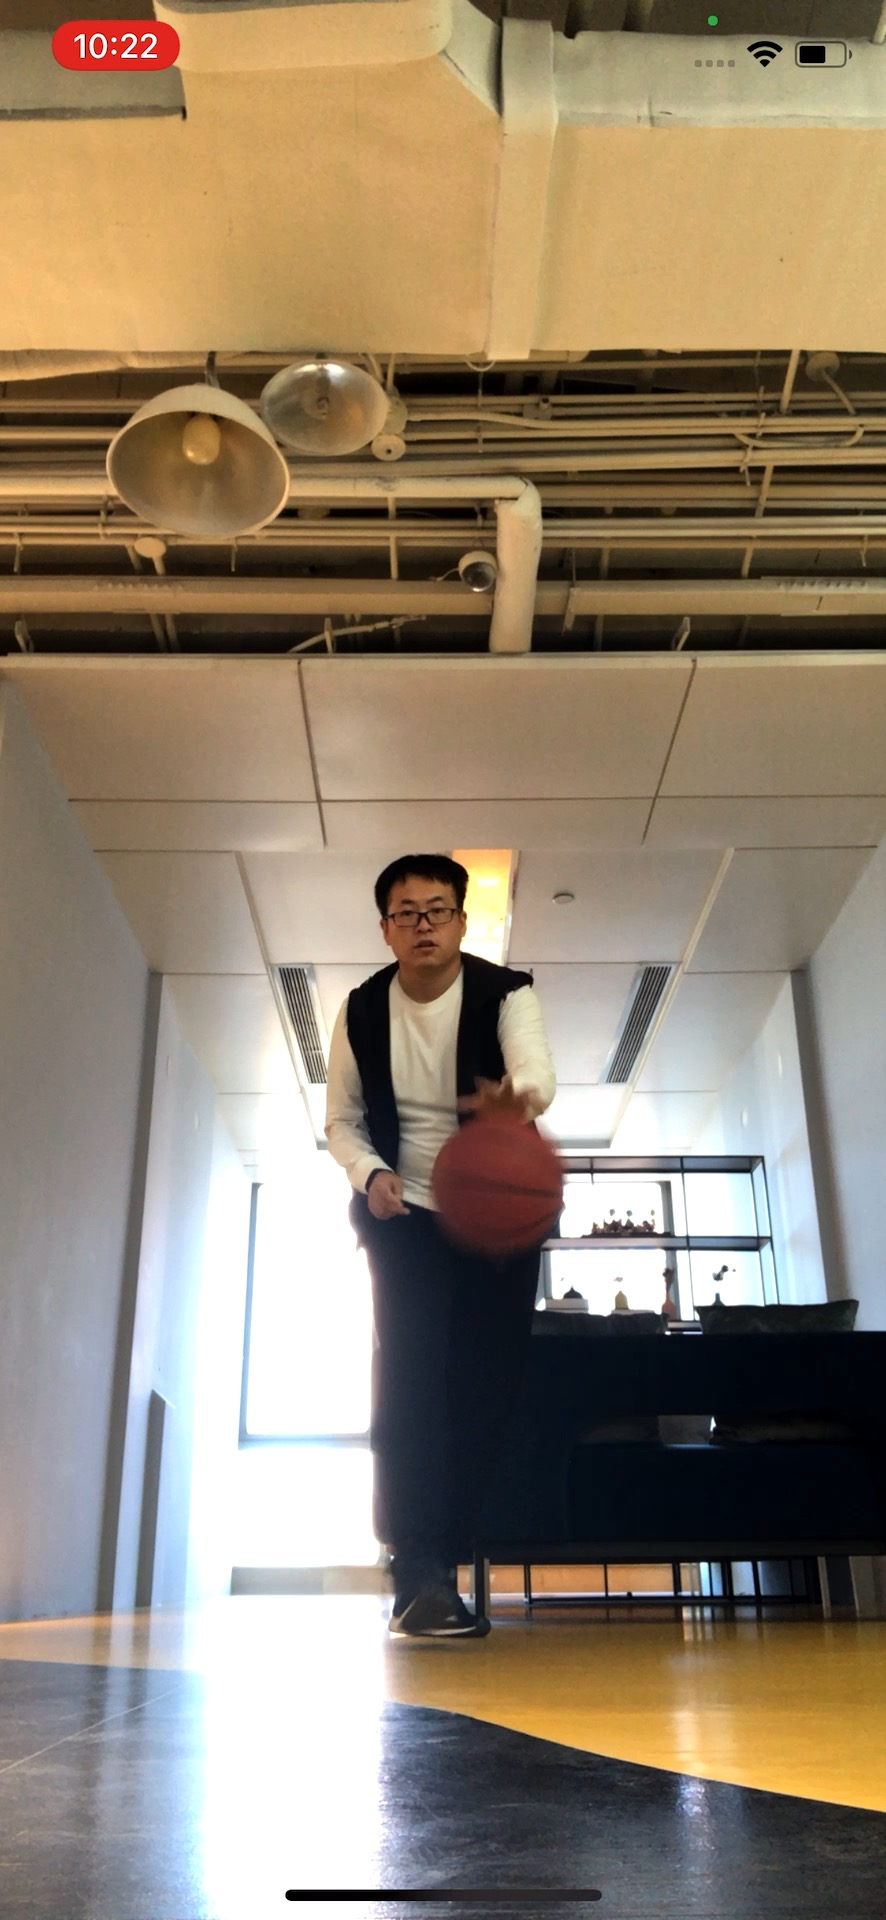ball: (434, 1114, 565, 1247)
